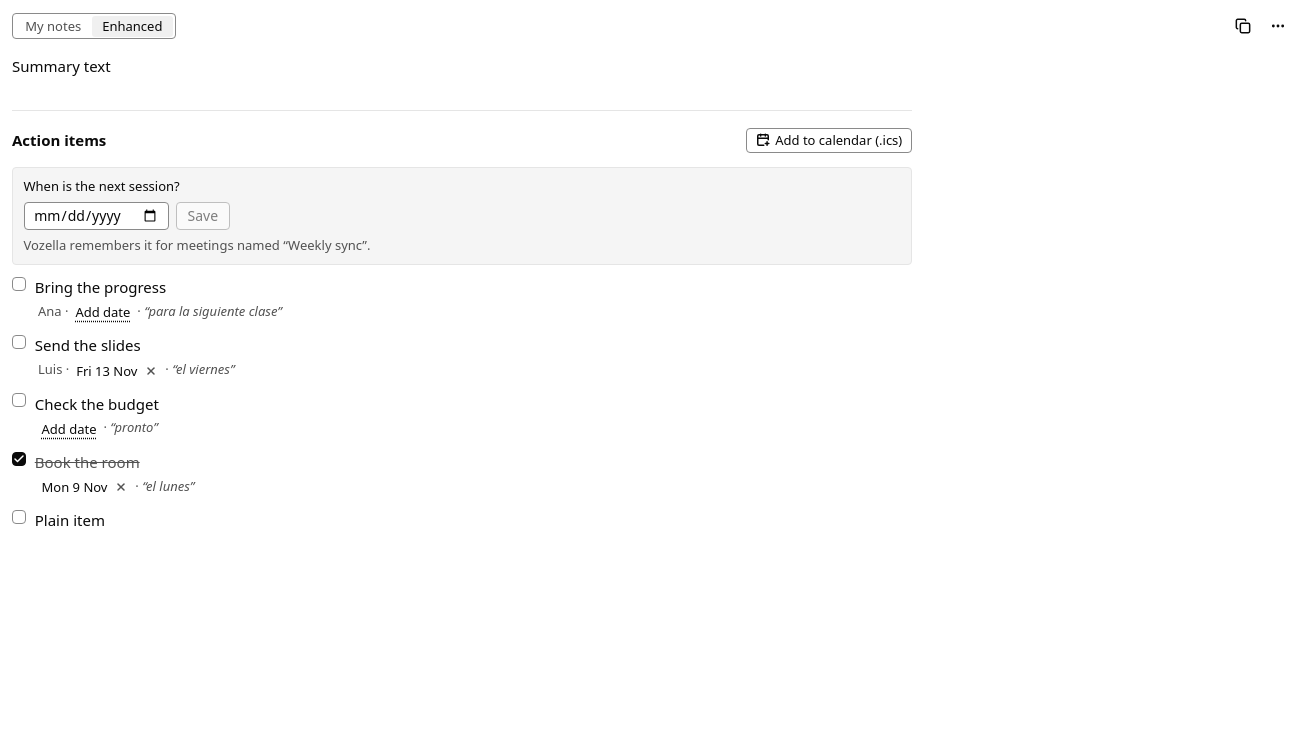
Test: action item details › clears a date with its own button
Step 1. Click the button named "Clear date" next to "el viernes" → coordinates (151, 370), box [141, 360, 162, 381]
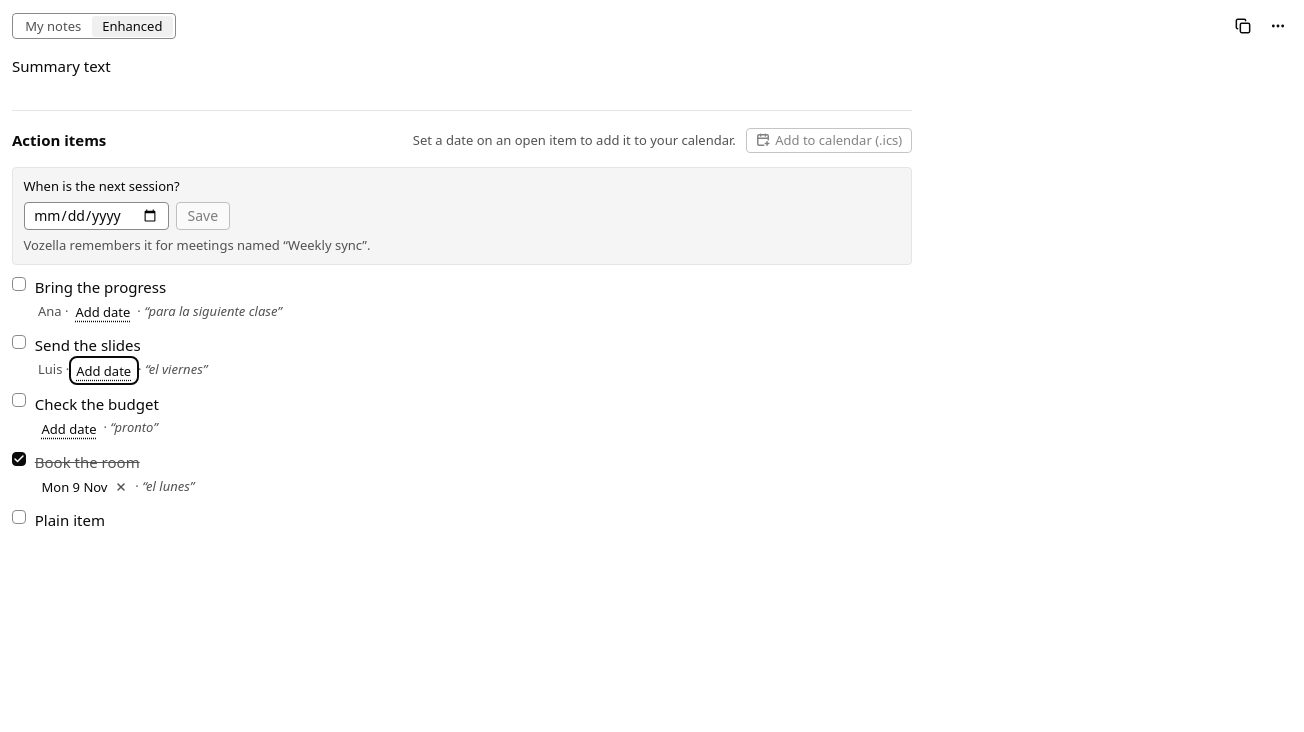
Expected: the button "Add date" next to "Luis" is shown, [73, 360, 135, 381]
